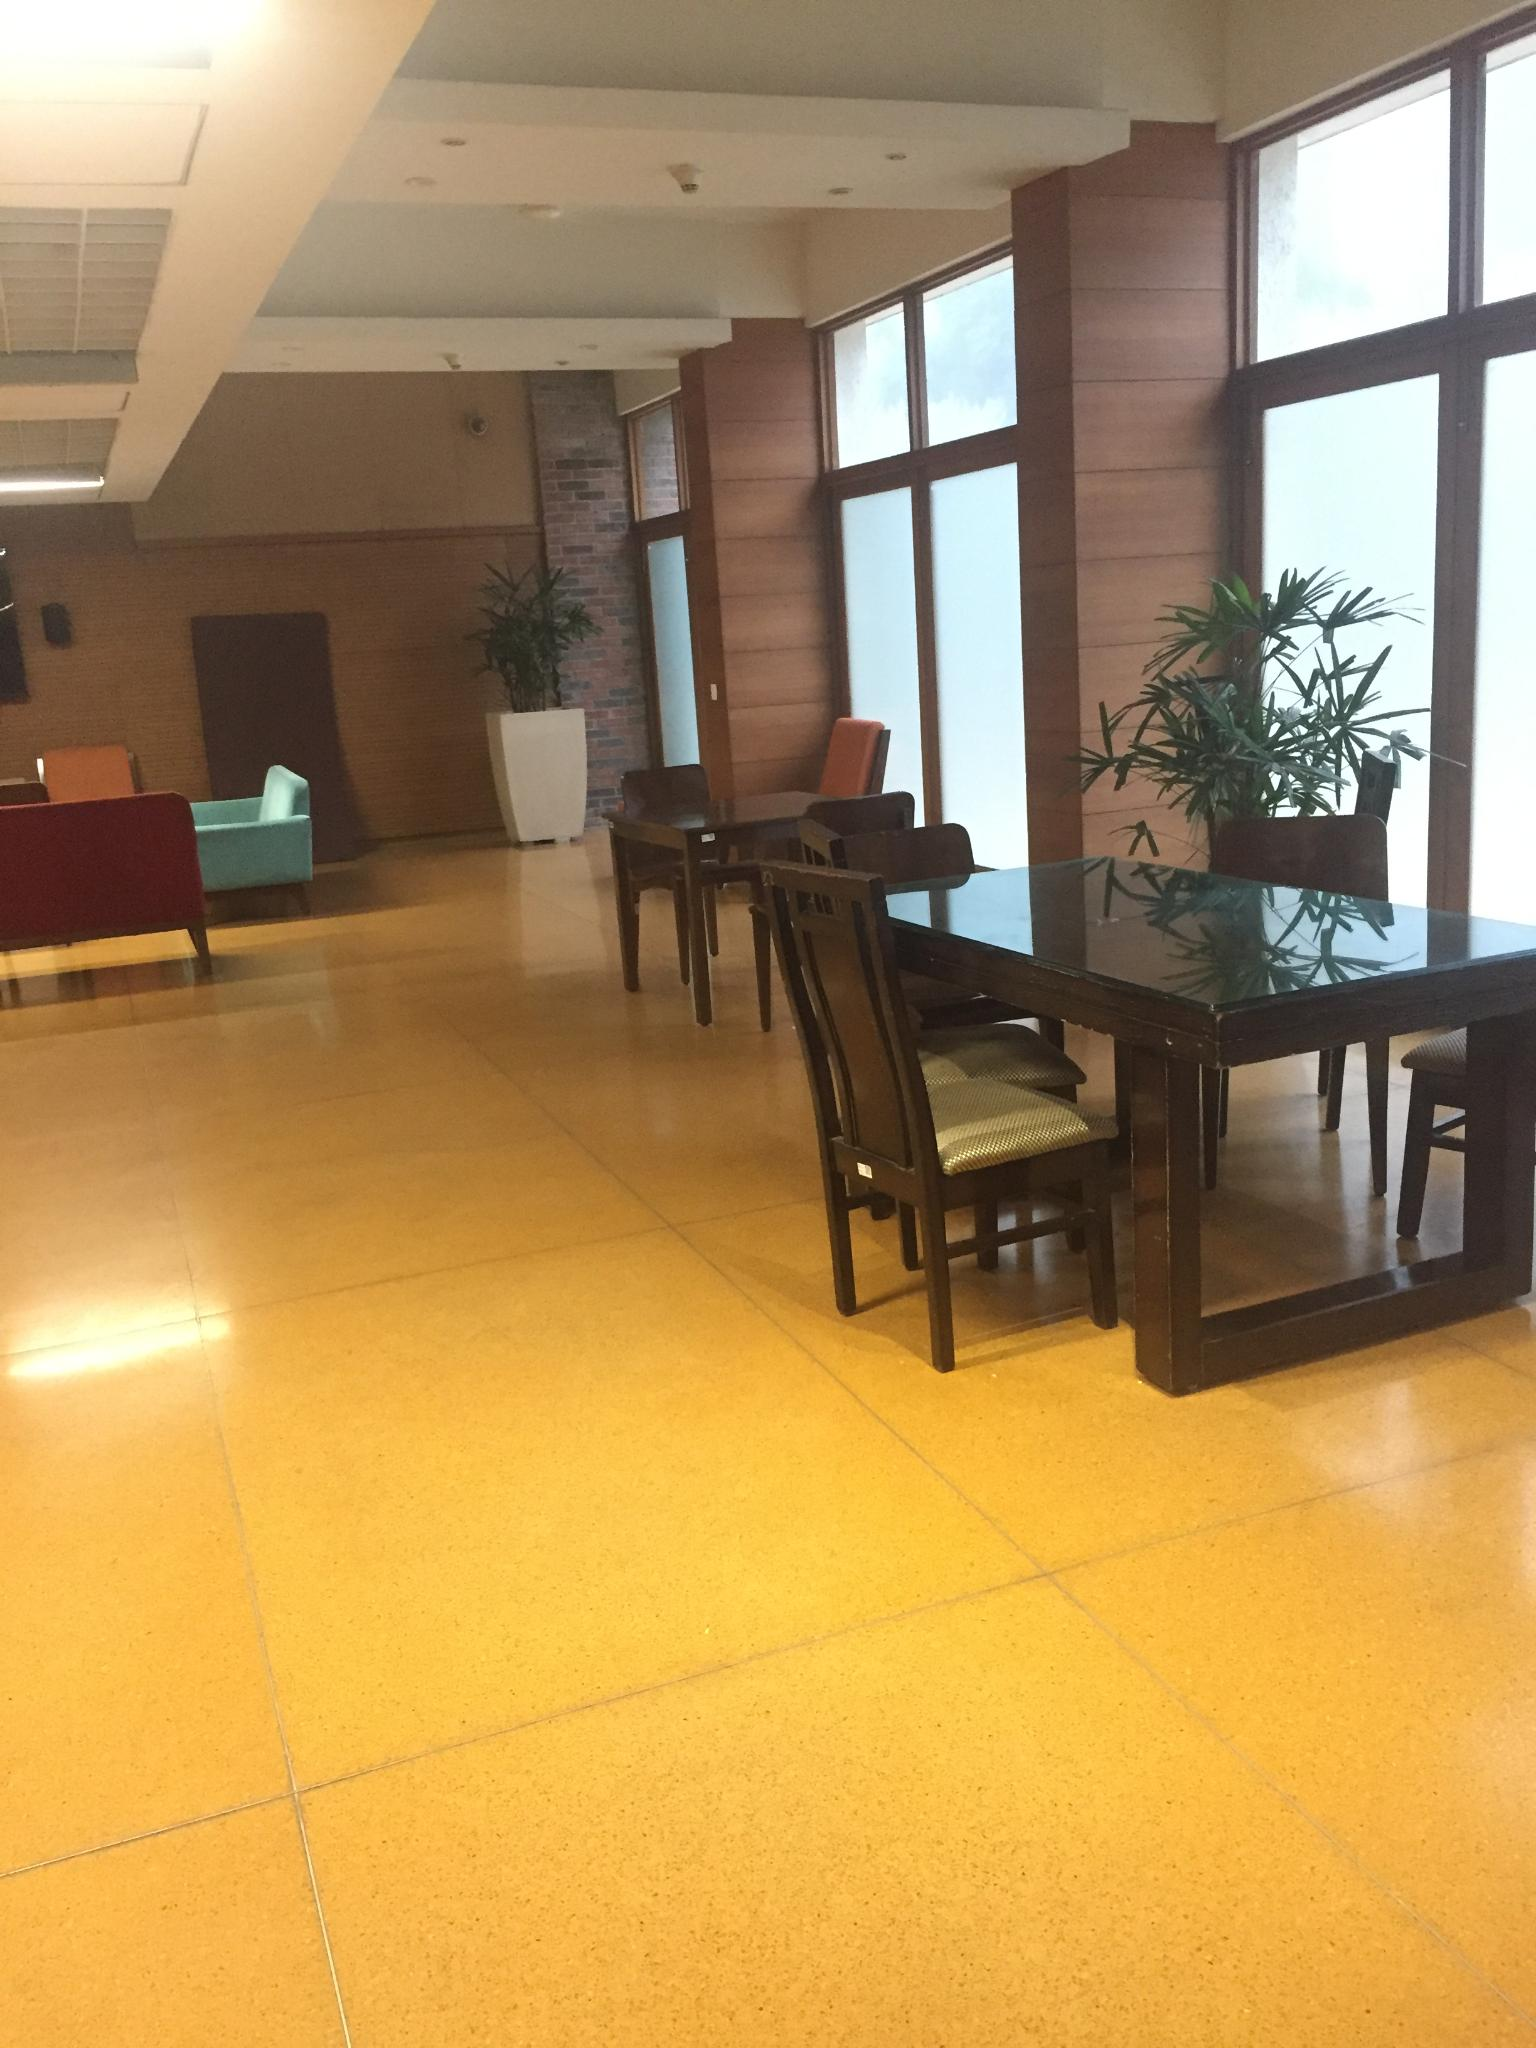chair: (758, 861, 1120, 1371), (1202, 813, 1391, 1197), (1396, 1006, 1534, 1242), (847, 822, 979, 1048), (626, 758, 726, 977), (37, 742, 152, 861), (807, 790, 931, 889), (818, 698, 895, 822)
